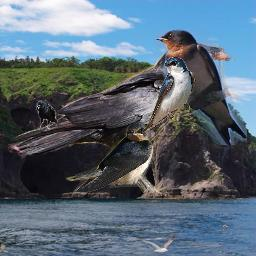Crow: (8, 35, 248, 196), (36, 100, 57, 130)
Swallow: (156, 29, 247, 145), (65, 121, 154, 192), (142, 56, 196, 133)
